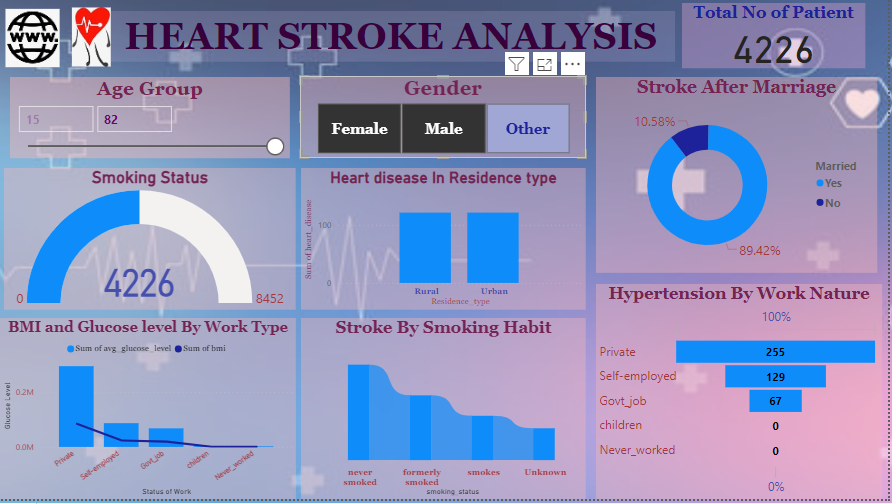

The dashboard page shown, as its layout file describes it:
{"tool":"powerbi","page":{"name":"Page 1","canvas":[1280,720],"ordinal":0},"visuals":[{"type":"textbox","box":[154.1,17.3,817.9,73.4],"z":0},{"type":"slicer","title":"Age Group","fields":{"Values":["healthcare-dataset-stroke-data.age"]},"box":[14.4,112.3,403.2,116.6],"z":1000},{"type":"slicer","title":"Gender","fields":{"Values":["healthcare-dataset-stroke-data.gender"]},"box":[432,110.9,411.8,118.1],"z":2000},{"type":"gauge","title":"Smoking Status","fields":{"Y":["CountNonNull(healthcare-dataset-stroke-data.smoking_status)"]},"box":[5.8,243.4,420.5,204.5],"z":3000},{"type":"columnChart","title":"Heart disease In Residence type","fields":{"Category":["healthcare-dataset-stroke-data.Residence_type"],"Y":["Sum(healthcare-dataset-stroke-data.heart_disease)"]},"box":[433.4,243.4,410.4,204.5],"z":4000},{"type":"donutChart","title":"Stroke After Marriage","fields":{"Category":["healthcare-dataset-stroke-data.ever_married"],"Y":["Sum(healthcare-dataset-stroke-data.stroke)"]},"box":[858.2,112.3,404.6,282.2],"z":5000},{"type":"lineStackedColumnComboChart","title":"BMI and Glucose level By Work Type","fields":{"Category":["healthcare-dataset-stroke-data.work_type"],"Y2":["Sum(healthcare-dataset-stroke-data.bmi)"],"Y":["Sum(healthcare-dataset-stroke-data.avg_glucose_level)"]},"box":[0,459.4,426.2,260.6],"z":6000},{"type":"funnel","title":"Hypertension By Work Nature","fields":{"Category":["healthcare-dataset-stroke-data.work_type"],"Y":["Sum(healthcare-dataset-stroke-data.hypertension)"]},"box":[858.2,410.4,411.8,309.6],"z":7000},{"type":"ribbonChart","title":"Stroke By Smoking Habit","fields":{"Y":["Sum(healthcare-dataset-stroke-data.stroke)"],"Category":["healthcare-dataset-stroke-data.smoking_status"]},"box":[433.4,459.4,410.4,260.6],"z":8000},{"type":"card","title":"Total No of Patient","fields":{"Values":["CountNonNull(healthcare-dataset-stroke-data.hypertension)"]},"box":[982.1,5.8,263.5,93.6],"z":9000},{"type":"image","box":[47.5,7.2,168.5,95],"z":10000},{"type":"image","box":[2.9,7.2,87.8,97.9],"z":11000}]}

Visuals, with their boxes in screenshot pixels (x1, y1, x2, y2), scaled from the page's 1280x720 canvas onto the 892x504 screenshot:
textbox: (left=107, top=12, right=677, bottom=63)
"Age Group" slicer: (left=10, top=79, right=291, bottom=160)
"Gender" slicer: (left=301, top=78, right=588, bottom=160)
"Smoking Status" gauge: (left=4, top=170, right=297, bottom=314)
"Heart disease In Residence type" columnChart: (left=302, top=170, right=588, bottom=314)
"Stroke After Marriage" donutChart: (left=598, top=79, right=880, bottom=276)
"BMI and Glucose level By Work Type" lineStackedColumnComboChart: (left=0, top=322, right=297, bottom=503)
"Hypertension By Work Nature" funnel: (left=598, top=287, right=885, bottom=503)
"Stroke By Smoking Habit" ribbonChart: (left=302, top=322, right=588, bottom=503)
"Total No of Patient" card: (left=684, top=4, right=868, bottom=70)
image: (left=33, top=5, right=151, bottom=72)
image: (left=2, top=5, right=63, bottom=74)
